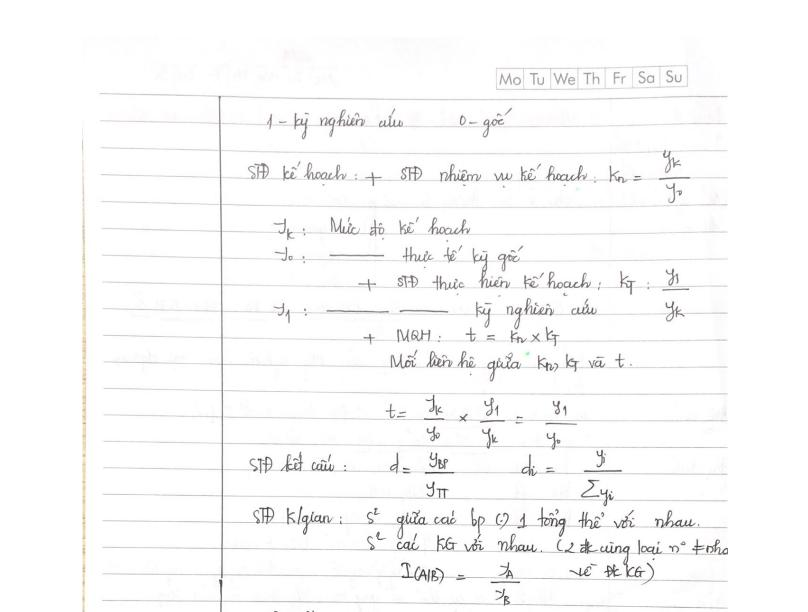text: (244, 147, 694, 206), (250, 504, 702, 536), (362, 530, 730, 566), (380, 391, 579, 451), (358, 266, 691, 300), (388, 348, 636, 384), (517, 449, 626, 508), (396, 560, 524, 608), (270, 215, 473, 244), (262, 106, 407, 140), (362, 325, 564, 347), (472, 295, 598, 330), (496, 68, 685, 90), (398, 243, 526, 272), (384, 448, 458, 498), (248, 449, 348, 476), (567, 562, 658, 585), (456, 106, 515, 140), (272, 300, 310, 322), (272, 244, 306, 266), (661, 300, 688, 324)
